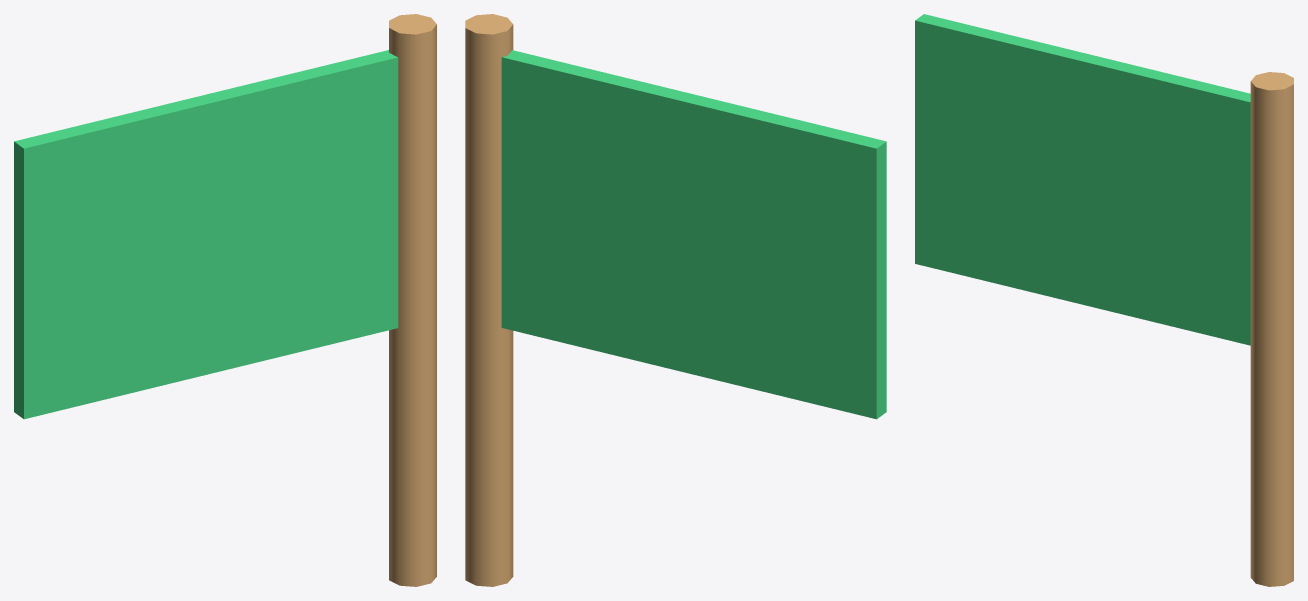
The model's file is Flag.fbx.
3 views of the same model, side by side, from view 1: azimuth 30°, elevation 25°; view 2: azimuth 150°, elevation 25°; view 3: azimuth 330°, elevation 25° (orthographic). The views are drawn at different scales.
Parts seen in each view (by area): view 1: Cube, Cylinder; view 2: Cube, Cylinder; view 3: Cube, Cylinder.
Part boxes in pixels (bbox=[...]): Cube: bbox=[14, 50, 398, 419]; Cylinder: bbox=[389, 14, 436, 586]; Cube: bbox=[501, 50, 886, 419]; Cylinder: bbox=[465, 14, 513, 586]; Cube: bbox=[915, 14, 1250, 345]; Cylinder: bbox=[1250, 72, 1293, 586].
Bounding box in the file's own units: 136 × 173 × 13.61.
